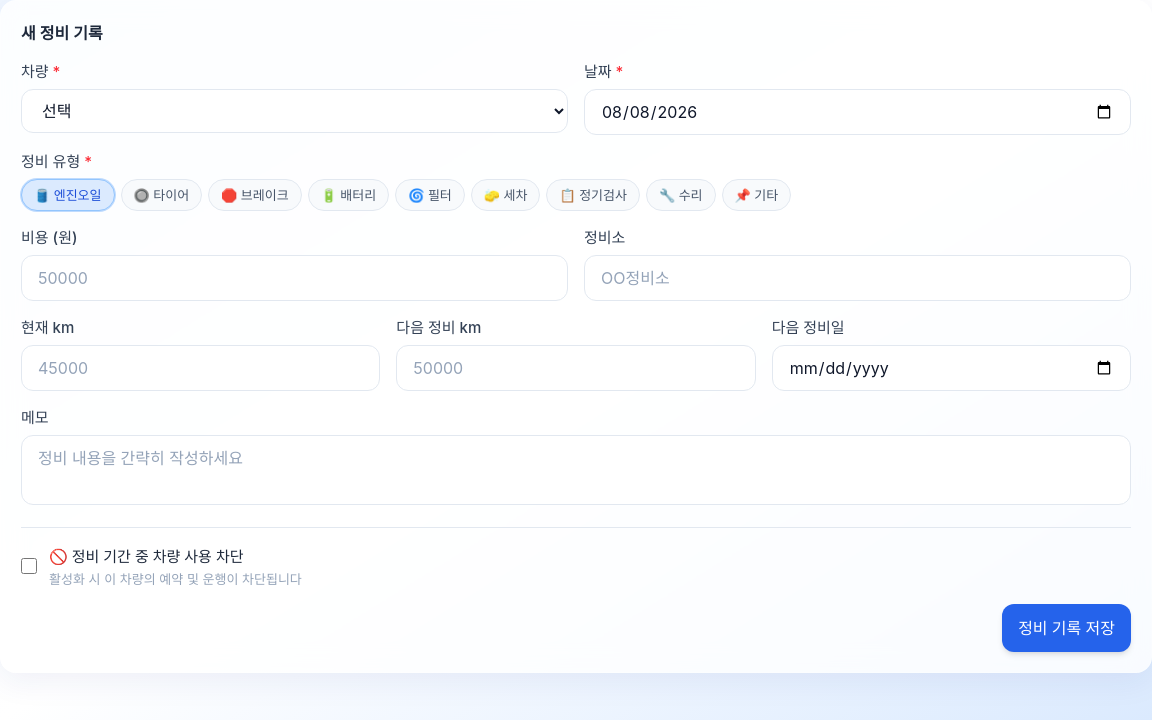
Test: MaintenanceForm — 음수 입력 차단 › 다음 정비 km 칸은 마이너스를 넣어도 부호가 남지 않는다
In the number field with placeholder "50000" below "다음 정비 km": (576, 368) [396, 345, 756, 391], type "-13"
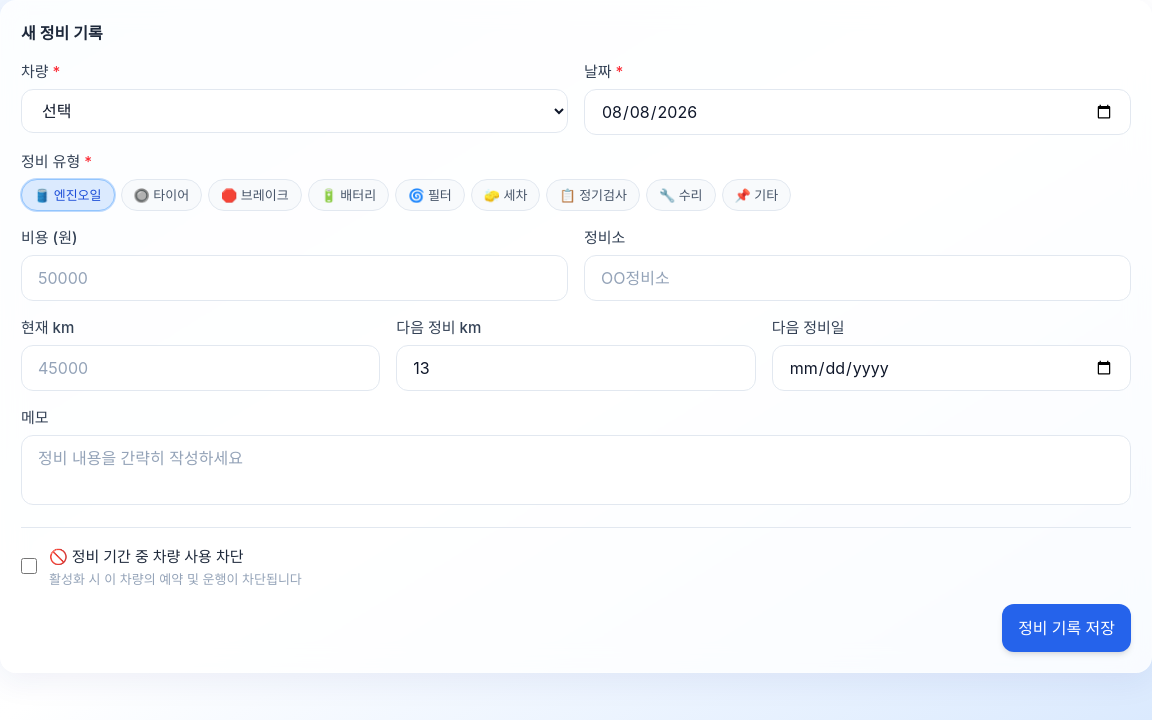
Expected: the 3rd number field holds "13", [396, 345, 756, 391]
